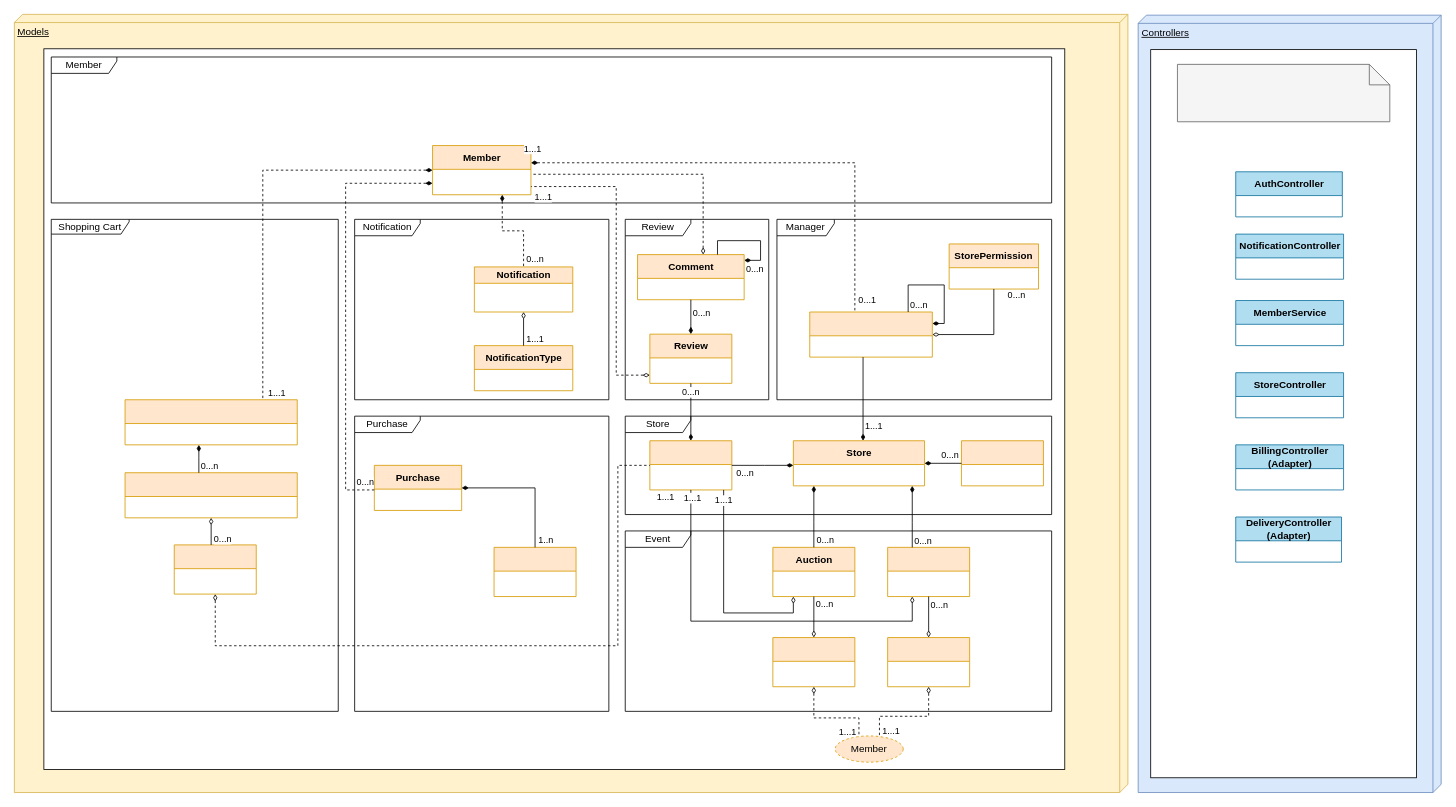
Image size: 1456x807. Some labels were removed from this diagram. Each missing label, with the centre of its shape:
All services communicate with each other: (x=1283, y=93)
AuctionBid: (x=813, y=662)
DiscountRule?: (x=1002, y=463)
Product: (x=690, y=465)
PurchaseItem: (x=534, y=572)
Raffle: (x=928, y=572)
RaffleBid: (x=928, y=662)
ShoppingBasket: (x=210, y=495)
ShoppingCart: (x=210, y=422)
ShoppingItem: (x=214, y=569)
StoreManager: (x=870, y=334)
